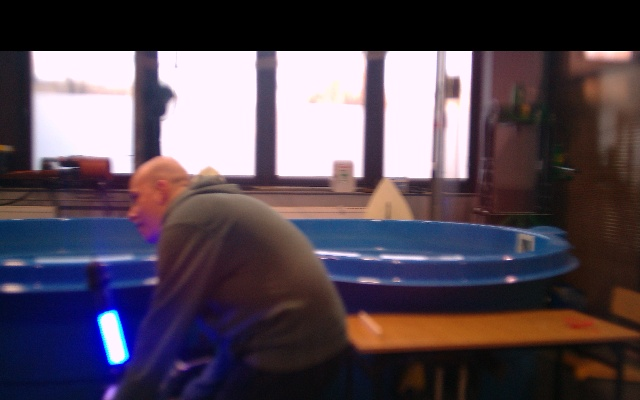blue: (96, 310, 130, 366)
